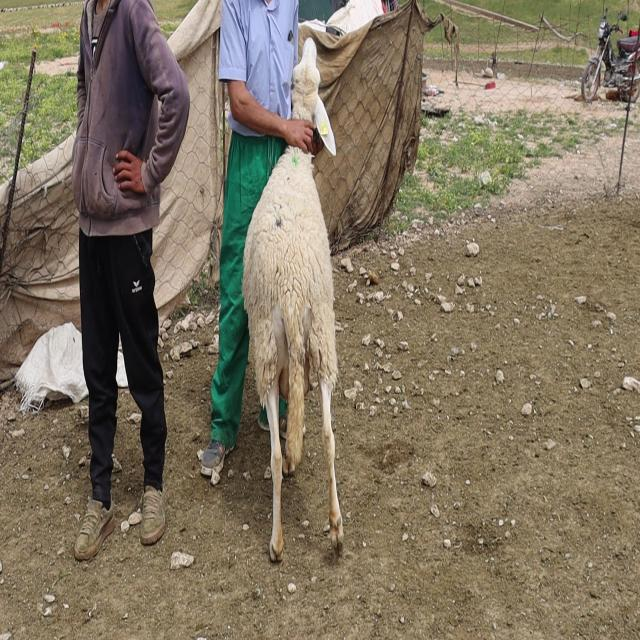Score_4: (242, 145, 343, 561)
